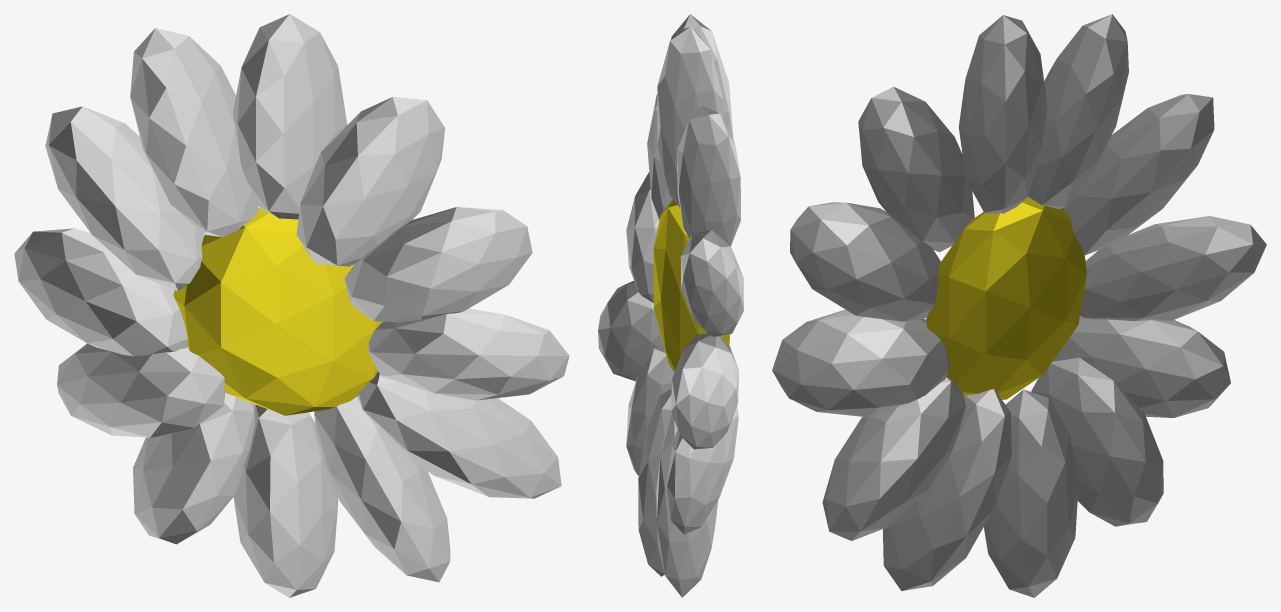
Rendered from Daisy.obj.
3 renders of one model, left to right at view 1: azimuth 30°, elevation 25°; view 2: azimuth 150°, elevation 25°; view 3: azimuth 270°, elevation 25°, orthographic. The views are drawn at different scales.
Visible parts, largest first — view 1: Daisy; view 2: Daisy; view 3: Daisy.
Part boxes in pixels (<box>): Daisy: <box>14,14,569,597</box>; Daisy: <box>598,14,743,597</box>; Daisy: <box>772,14,1266,597</box>.
Size of the model in its own units: 3.25 by 5.66 by 4.41.
